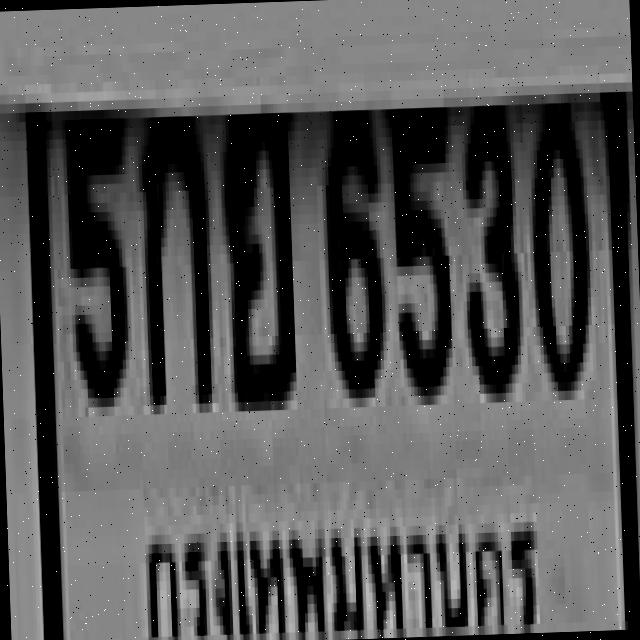0: (525, 93, 590, 382)
10GorGai: (133, 106, 215, 405)
3: (456, 100, 522, 389)
43YorYak: (212, 98, 302, 398)
5: (58, 100, 134, 398), (381, 98, 456, 388)
6: (320, 100, 384, 390)
Bangkok: (133, 474, 546, 640)
